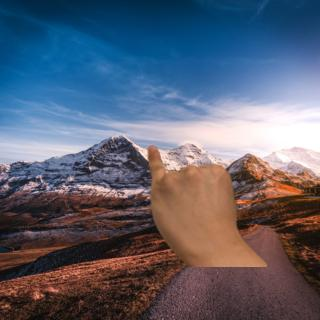FINE: (144, 142, 241, 258)
